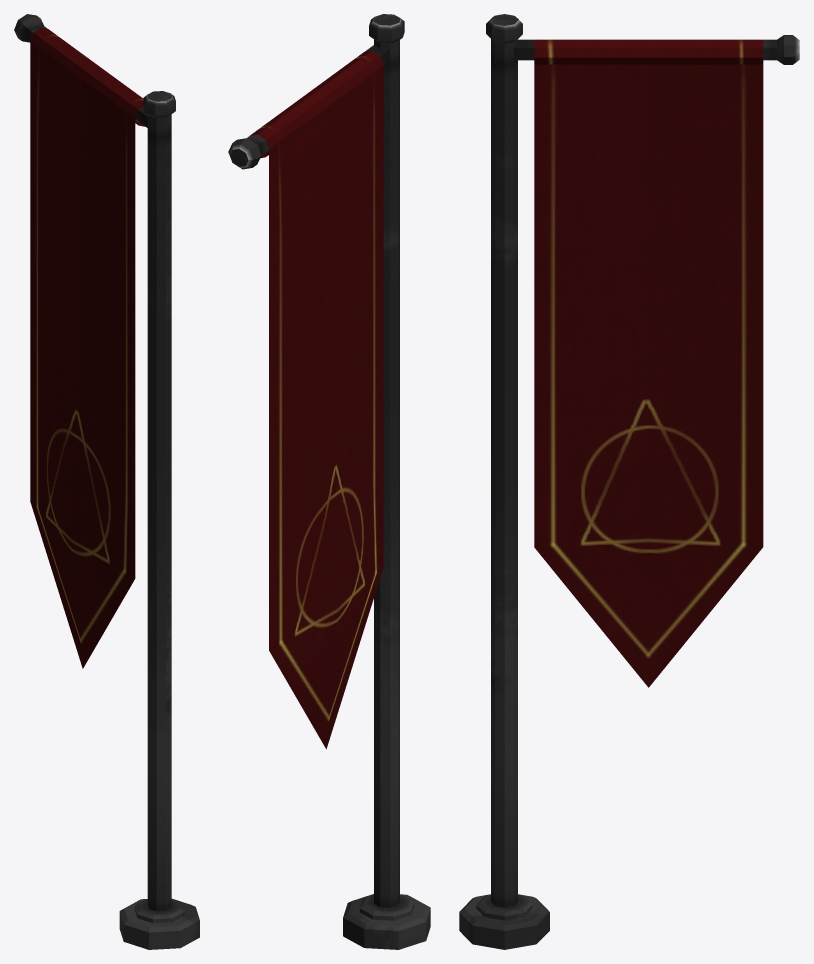
The model's file is SM_draps.fbx.
The picture shows the model from 3 angles, left to right: view 1: azimuth 30°, elevation 25°; view 2: azimuth 150°, elevation 25°; view 3: azimuth 270°, elevation 25°; orthographic projection. The views are drawn at different scales.
Visible parts, largest first — view 1: SM_draps; view 2: SM_draps; view 3: SM_draps.
Boxes of the visible parts, x1,y1,x2,y2 form: SM_draps: (14,14,199,949); SM_draps: (228,14,430,949); SM_draps: (459,14,799,949).
Size of the model in its own units: 0.4938 by 5.47 by 1.85.
